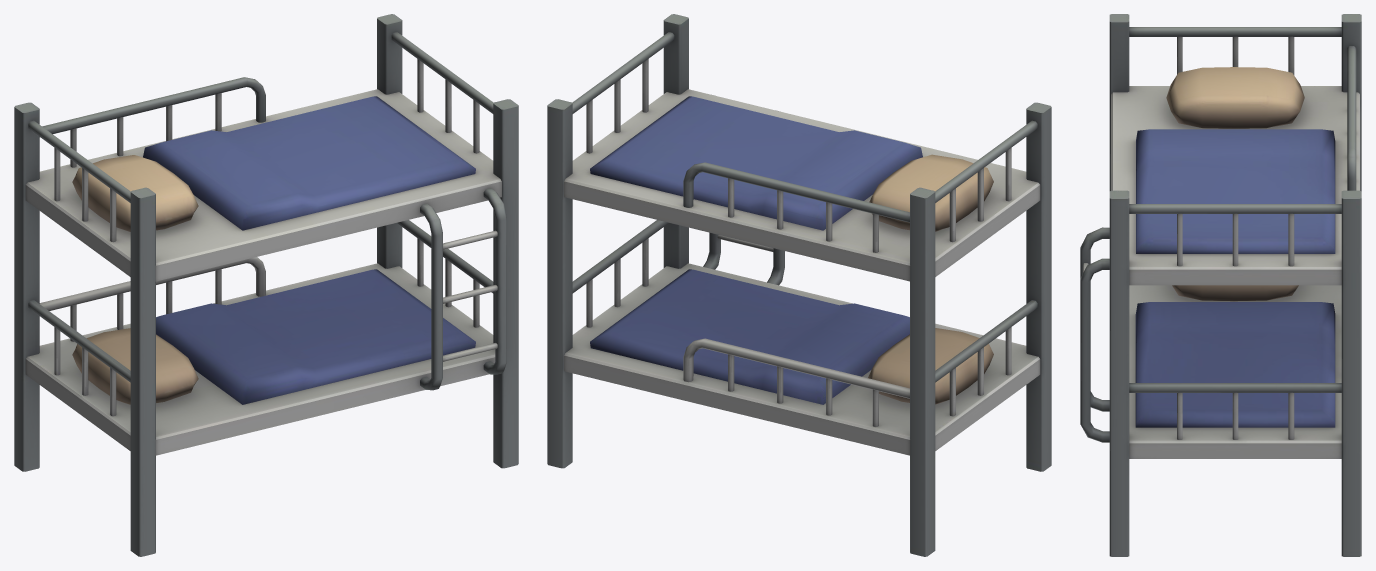
File: Bed.fbx
3 views of the same model, side by side, from view 1: azimuth 30°, elevation 25°; view 2: azimuth 150°, elevation 25°; view 3: azimuth 270°, elevation 25° (orthographic).
Parts seen in each view (by area): view 1: Bed; view 2: Bed; view 3: Bed.
Part boxes in pixels (x1=…): Bed: x1=14, y1=14, x2=518, y2=556; Bed: x1=547, y1=14, x2=1051, y2=556; Bed: x1=1080, y1=14, x2=1361, y2=556.
Size of the model in its own units: 18.86 by 17.01 by 12.11.
Materials: 1 (1 with a texture image).
